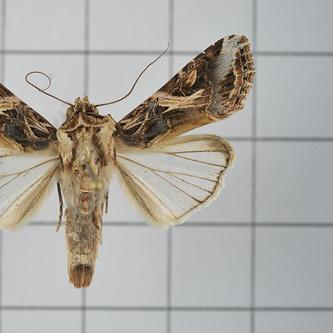Spodoptera litura: (1, 32, 256, 288)
